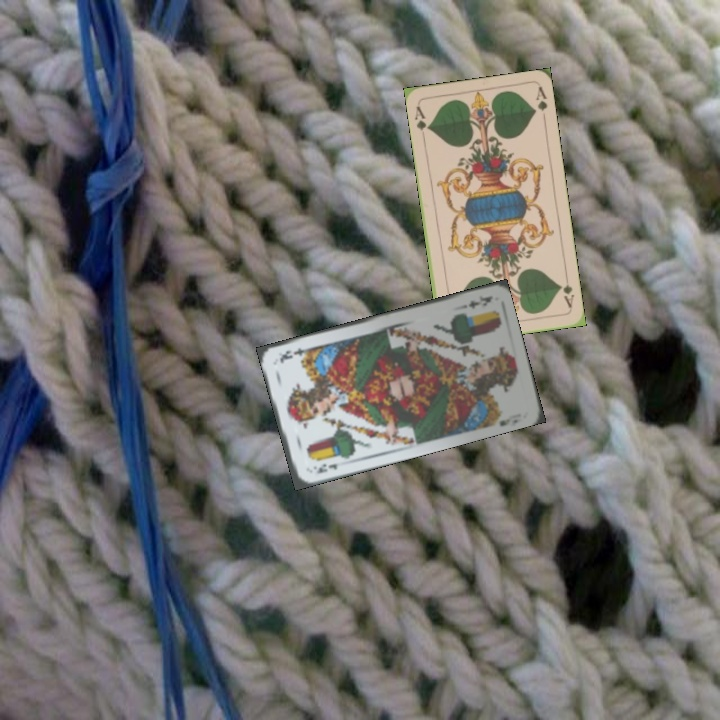EK: (455, 292, 495, 312), (309, 459, 340, 476)
GA: (411, 102, 432, 141), (556, 271, 577, 310)
